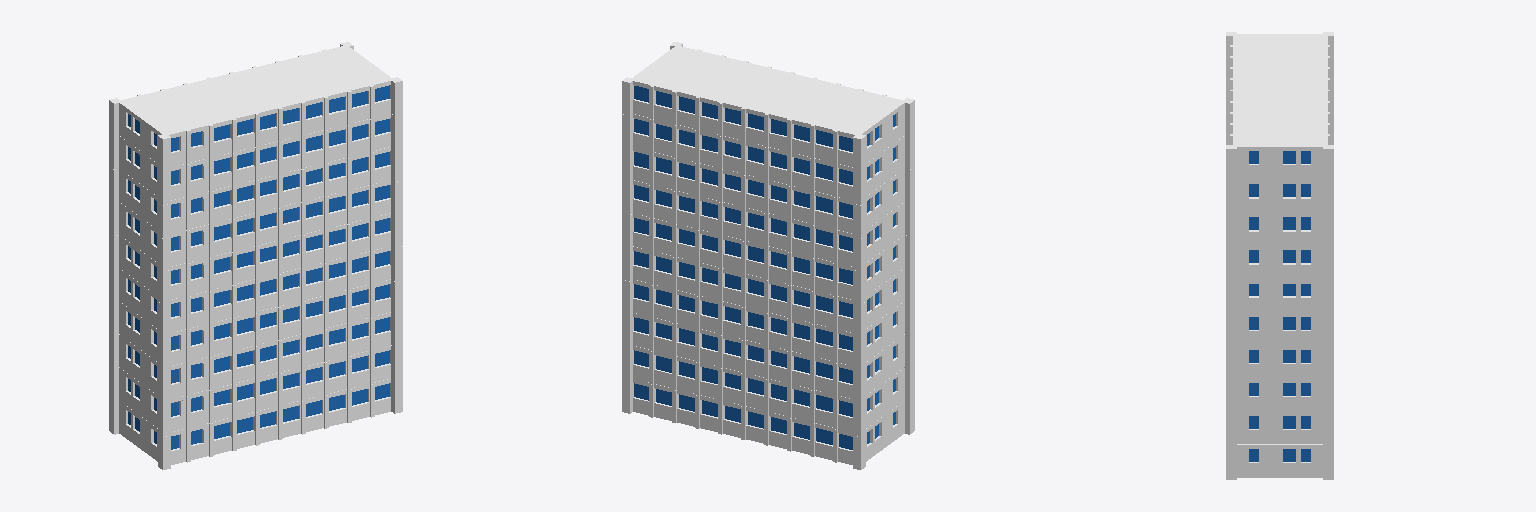
The model's file is build.obj.
The picture shows the model from 3 angles: view 1: azimuth 30°, elevation 25°; view 2: azimuth 150°, elevation 25°; view 3: azimuth 270°, elevation 25°; orthographic projection.
Parts seen in each view (by area): view 1: Cube; view 2: Cube; view 3: Cube.
Boxes of the visible parts, x1,y1,x2,y2 form: Cube: [109, 42, 402, 469]; Cube: [622, 42, 914, 469]; Cube: [1226, 32, 1333, 479].
Bounding box in the file's own units: 10.38 × 13.68 × 4.03.